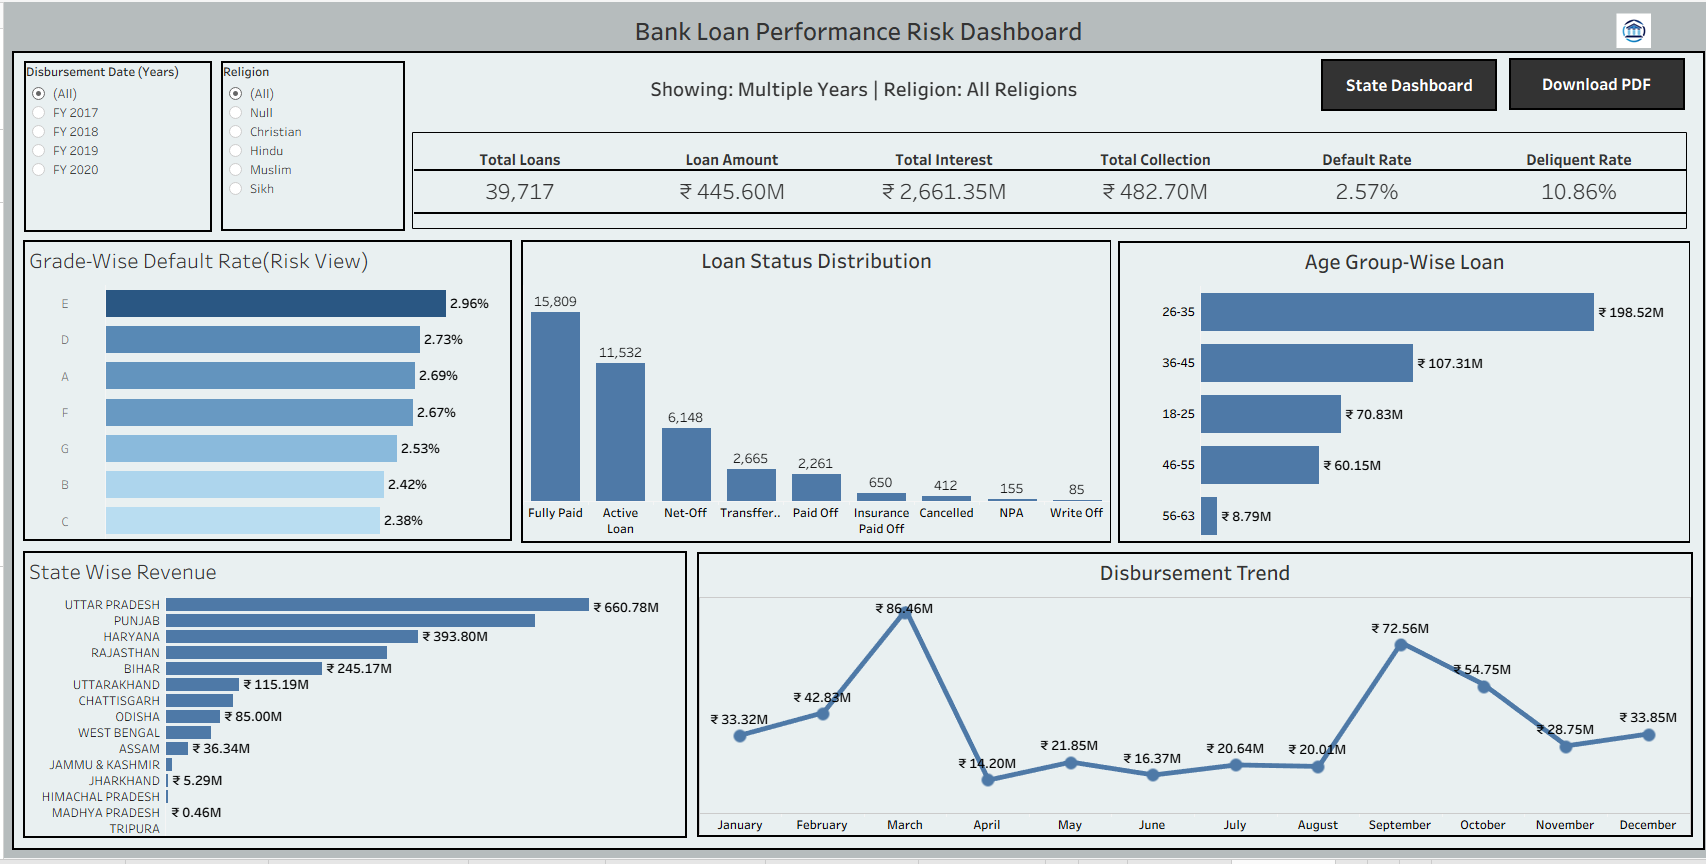

The page's visual inventory and layout, read from the dashboard file:
{"tool":"tableau","page":{"name":"Dashboard 2","canvas":[1000,1000],"units":"permille","ordinal":1},"visuals":[{"type":"title","box":[5,9.3,989.9,47.9]},{"type":"image","param":"Image/minimalist-logo-design-representing-a-contemporary-banking-institution-sho","box":[912.6,12.8,81.1,40.9]},{"type":"dashboard-object","box":[880.6,65.4,103.1,60.8]},{"type":"dashboard-object","box":[770.6,66.6,103.1,60.8]},{"type":"filter","title":"Loan Status Distribution","param":"[federated.1kj96c815pwpha1015d5b0dck20x].[none:Disbursement Date (Years):nk]","box":[11.9,68.9,110,199.8]},{"type":"filter","title":"State Wise Revenue","param":"[federated.1kj96c815pwpha1015d5b0dck20x].[none:Religion:nk]","box":[127,68.9,107.5,198.6]},{"type":"worksheet","title":"Filters","mark":"Automatic","box":[321.8,68.9,399.1,75.9]},{"type":"worksheet","title":"KPI","mark":"Text","box":[238.8,151.9,746.1,113.3]},{"type":"worksheet","title":"Grade-Wise Default Rate(Risk View)","mark":"Automatic","rows":["Grade"],"cols":["Calculation_0779867782217734"],"box":[11.3,278,286,351.6]},{"type":"worksheet","title":"Loan Status Distribution","mark":"Bar","rows":["Account ID"],"cols":["Loan Status"],"box":[302.3,278,345.7,354]},{"type":"worksheet","title":"Age Group-Wise Loan","mark":"Automatic","rows":["Age"],"cols":["Loan Amount"],"box":[651.8,279.2,335,352.8]},{"type":"worksheet","title":"State Wise Revenue","mark":"Automatic","rows":["State Name"],"cols":["Calculation_2023415435169792"],"box":[11.3,641.4,388.4,335.3]},{"type":"worksheet","title":"Disbursement Trend(Line Chart)","mark":"Circle","rows":["Loan Amount","Loan Amount"],"cols":["Disbursement Date"],"box":[405.4,642.5,582.6,332.9]}]}

Visuals, with their boxes on the dashboard's canvas, which has no fixed pixel size, in thousandths of its width and height (x1, y1, x2, y2). These are canvas units, not pixel positions in the 1706x864 screenshot, which may show the page scaled, cropped or inside an application window:
title: bbox(5, 9, 995, 57)
image: bbox(913, 13, 994, 54)
dashboard-object: bbox(881, 65, 984, 126)
dashboard-object: bbox(771, 67, 874, 127)
"Loan Status Distribution" filter: bbox(12, 69, 122, 269)
"State Wise Revenue" filter: bbox(127, 69, 234, 268)
"Filters" worksheet: bbox(322, 69, 721, 145)
"KPI" worksheet (Text marks): bbox(239, 152, 985, 265)
"Grade-Wise Default Rate(Risk View)" worksheet: bbox(11, 278, 297, 630)
"Loan Status Distribution" worksheet (Bar marks): bbox(302, 278, 648, 632)
"Age Group-Wise Loan" worksheet: bbox(652, 279, 987, 632)
"State Wise Revenue" worksheet: bbox(11, 641, 400, 977)
"Disbursement Trend(Line Chart)" worksheet (Circle marks): bbox(405, 642, 988, 975)
